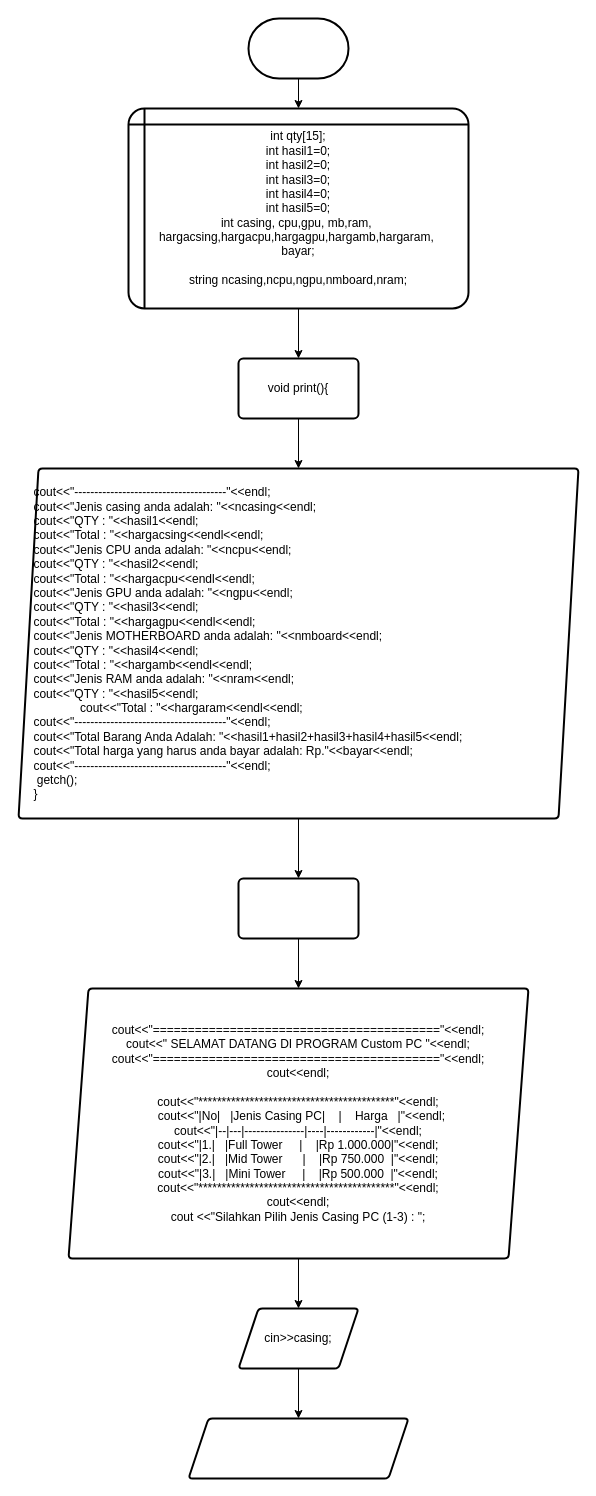
The diagram is 596 pixels wide and 1496 high, and some of its shapes have lost their labels. Here are the shapes that lost their labels. From the top down, the centre of each, then its label:
the point at 298,48: Start
the point at 298,908: int main(){
the point at 298,1448: cout<<"Jumlah Pembelian: ";
